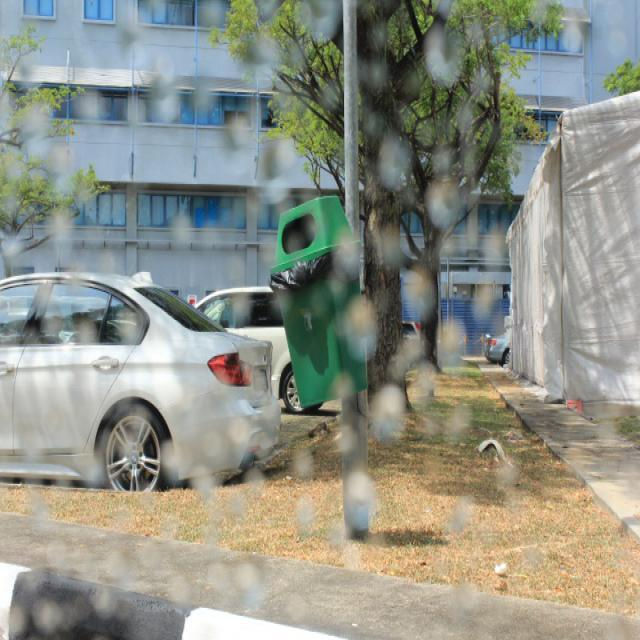raindrop: (326, 292, 378, 366), (76, 420, 122, 494), (38, 202, 88, 266), (393, 264, 436, 337), (364, 383, 410, 448), (11, 84, 56, 146), (372, 132, 422, 186), (240, 36, 284, 95), (426, 167, 466, 230), (244, 174, 288, 230), (215, 284, 258, 340), (394, 363, 440, 415), (326, 226, 368, 282), (16, 22, 54, 82), (14, 416, 54, 473), (374, 213, 411, 274), (426, 31, 463, 92), (438, 402, 484, 450), (600, 0, 628, 75), (347, 465, 382, 523), (82, 239, 128, 283), (457, 282, 498, 330), (433, 318, 468, 374), (71, 86, 114, 130), (298, 0, 342, 42), (256, 212, 288, 268), (149, 435, 187, 482), (238, 563, 272, 615), (222, 114, 262, 156), (152, 578, 186, 626), (343, 62, 389, 97), (326, 364, 361, 409), (592, 398, 621, 452), (27, 311, 67, 350), (314, 73, 343, 125), (221, 406, 251, 456), (476, 228, 507, 276), (106, 308, 145, 346), (118, 95, 148, 144), (554, 446, 594, 482), (70, 314, 102, 358), (503, 543, 552, 571), (160, 38, 187, 88), (198, 422, 226, 470), (155, 90, 187, 132), (33, 253, 64, 296), (29, 599, 67, 634), (292, 498, 317, 550), (294, 438, 320, 487), (28, 500, 59, 541), (333, 422, 364, 462), (562, 0, 584, 56), (188, 469, 214, 516), (173, 202, 202, 244), (195, 0, 225, 40), (0, 600, 29, 640), (250, 428, 280, 466), (43, 138, 70, 180), (99, 587, 122, 635), (270, 122, 292, 172), (446, 487, 474, 526), (425, 142, 457, 176), (0, 520, 20, 573), (266, 284, 297, 318), (126, 44, 157, 78), (140, 532, 164, 575), (458, 579, 483, 620), (462, 15, 493, 46), (447, 102, 473, 136), (248, 0, 286, 23), (246, 466, 274, 496), (493, 460, 518, 492), (321, 519, 342, 557), (467, 66, 491, 98), (226, 480, 245, 520), (206, 575, 229, 606), (104, 554, 126, 586), (528, 0, 551, 30), (200, 80, 218, 118), (49, 532, 65, 571), (368, 19, 390, 45), (420, 410, 438, 440), (222, 262, 240, 288)
